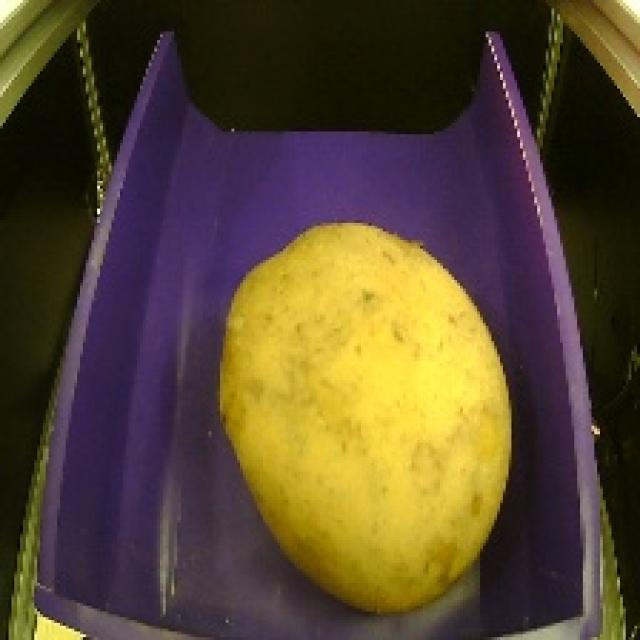full_potato: (207, 203, 523, 624)
